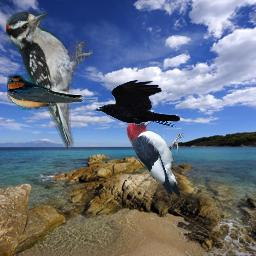Crow: (94, 80, 181, 128)
Swallow: (5, 73, 98, 110)
Woodpecker: (6, 12, 94, 149), (126, 118, 187, 197)
